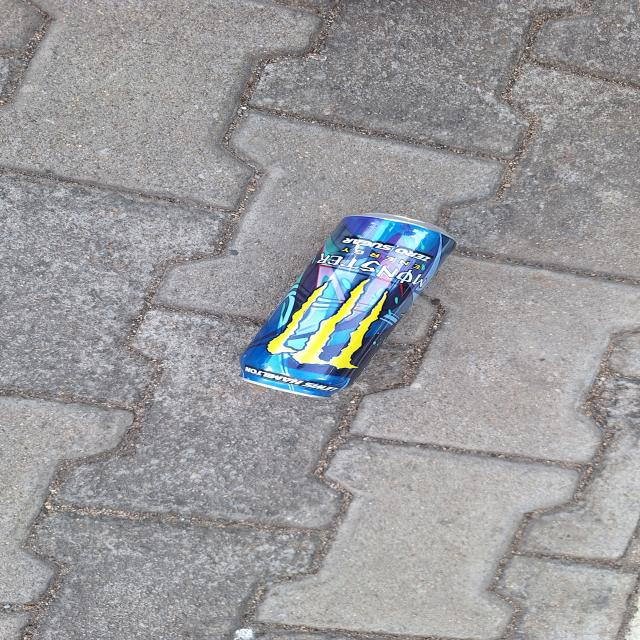Monster LH44: (237, 211, 468, 402)
